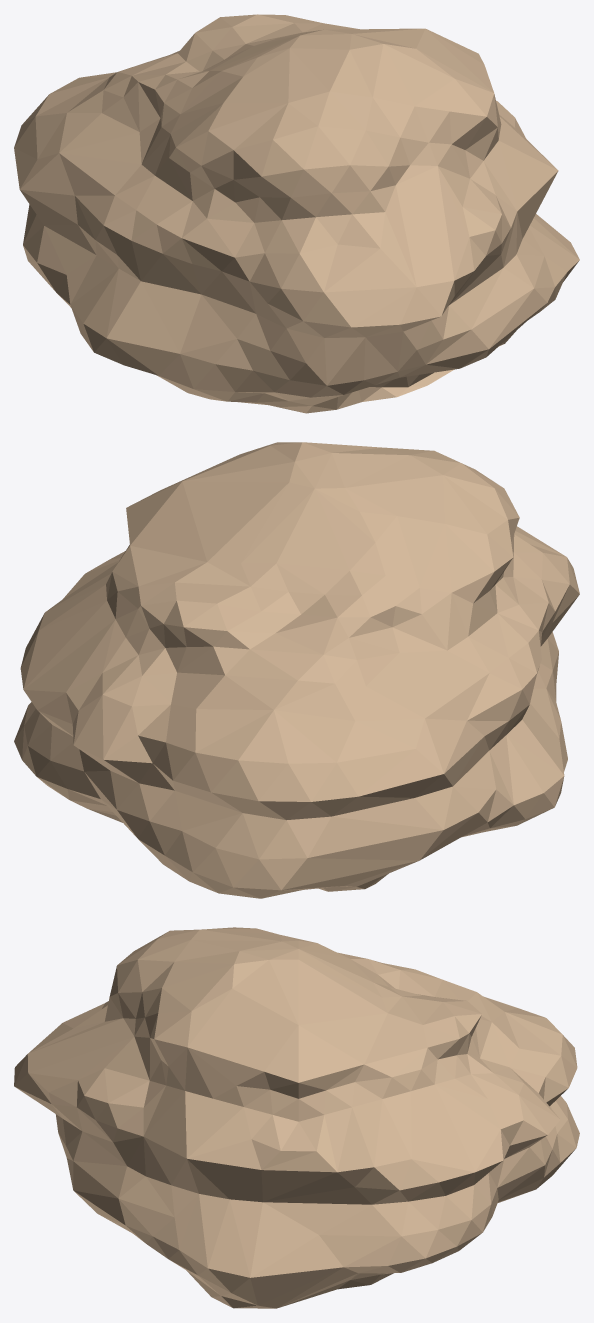
Rendered from SM_DST_Rock_Boulder_C.fbx.
3 views of the same model, one above another, from view 1: azimuth 30°, elevation 25°; view 2: azimuth 150°, elevation 25°; view 3: azimuth 270°, elevation 25° (orthographic). The views are drawn at different scales.
Parts seen in each view (by area): view 1: SM_DST_Rock_Boulder_C; view 2: SM_DST_Rock_Boulder_C; view 3: SM_DST_Rock_Boulder_C.
Boxes of the visible parts, x1,y1,x2,y2 form: SM_DST_Rock_Boulder_C: (14,14,579,413); SM_DST_Rock_Boulder_C: (14,442,579,898); SM_DST_Rock_Boulder_C: (14,927,579,1308).
Size of the model in its own units: 1.93 by 1.27 by 2.28.
